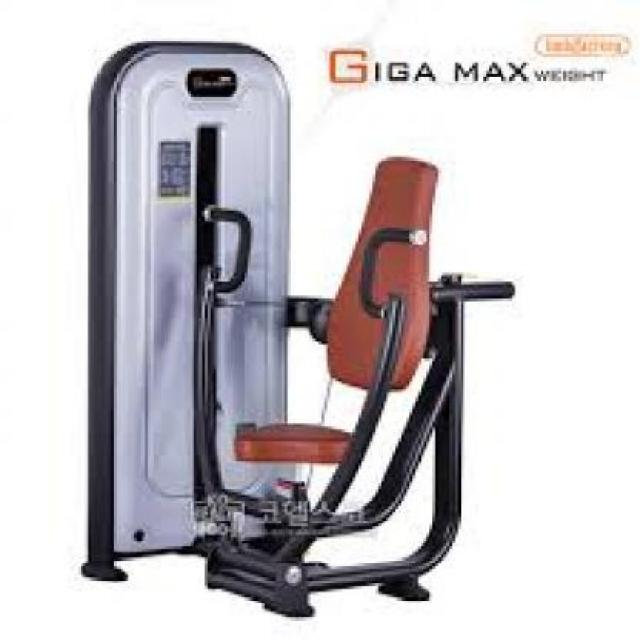Chest Press machine: (74, 32, 517, 623)
